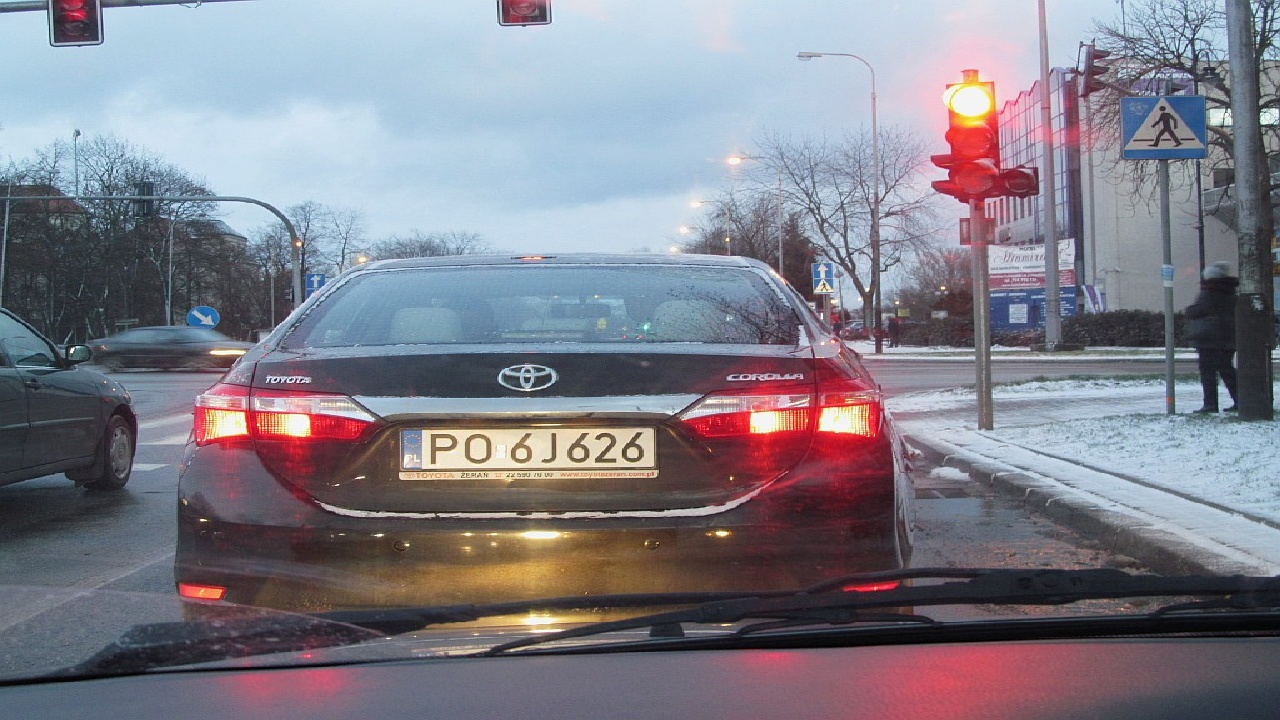D3: (812, 263, 833, 278)
D6: (1120, 97, 1209, 159), (813, 278, 834, 293)
Red: (947, 84, 997, 193)
